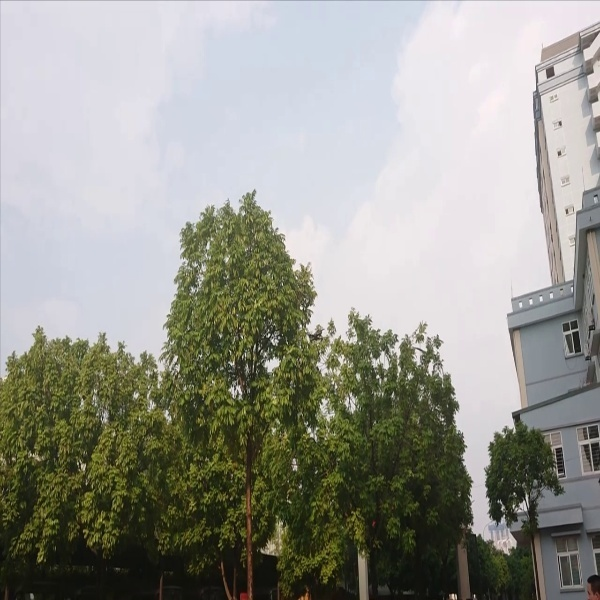drone: (301, 325, 327, 346)
